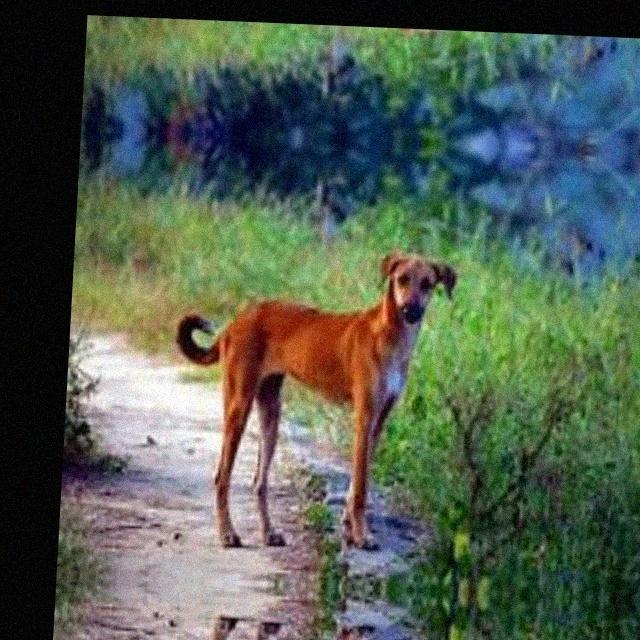dog: (148, 223, 476, 568), (140, 602, 455, 640), (176, 19, 487, 53)
